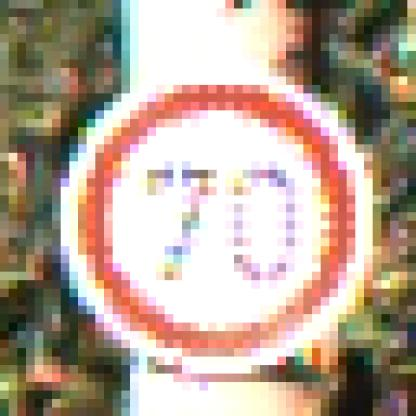Speed Limit 70: (64, 78, 361, 365)
